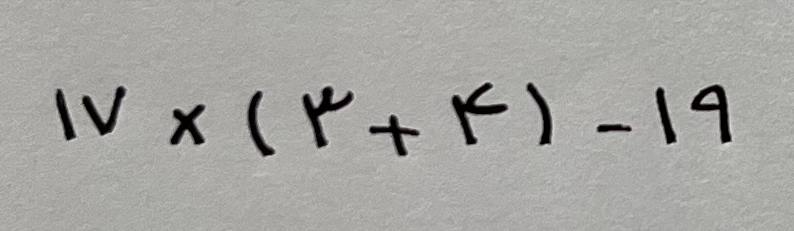character: (451, 82, 508, 146), (302, 86, 354, 149), (690, 84, 729, 145), (368, 114, 420, 157), (82, 86, 124, 136), (246, 91, 273, 156), (526, 82, 551, 144), (171, 104, 205, 144), (656, 86, 678, 145), (55, 88, 76, 138), (596, 123, 632, 134)
